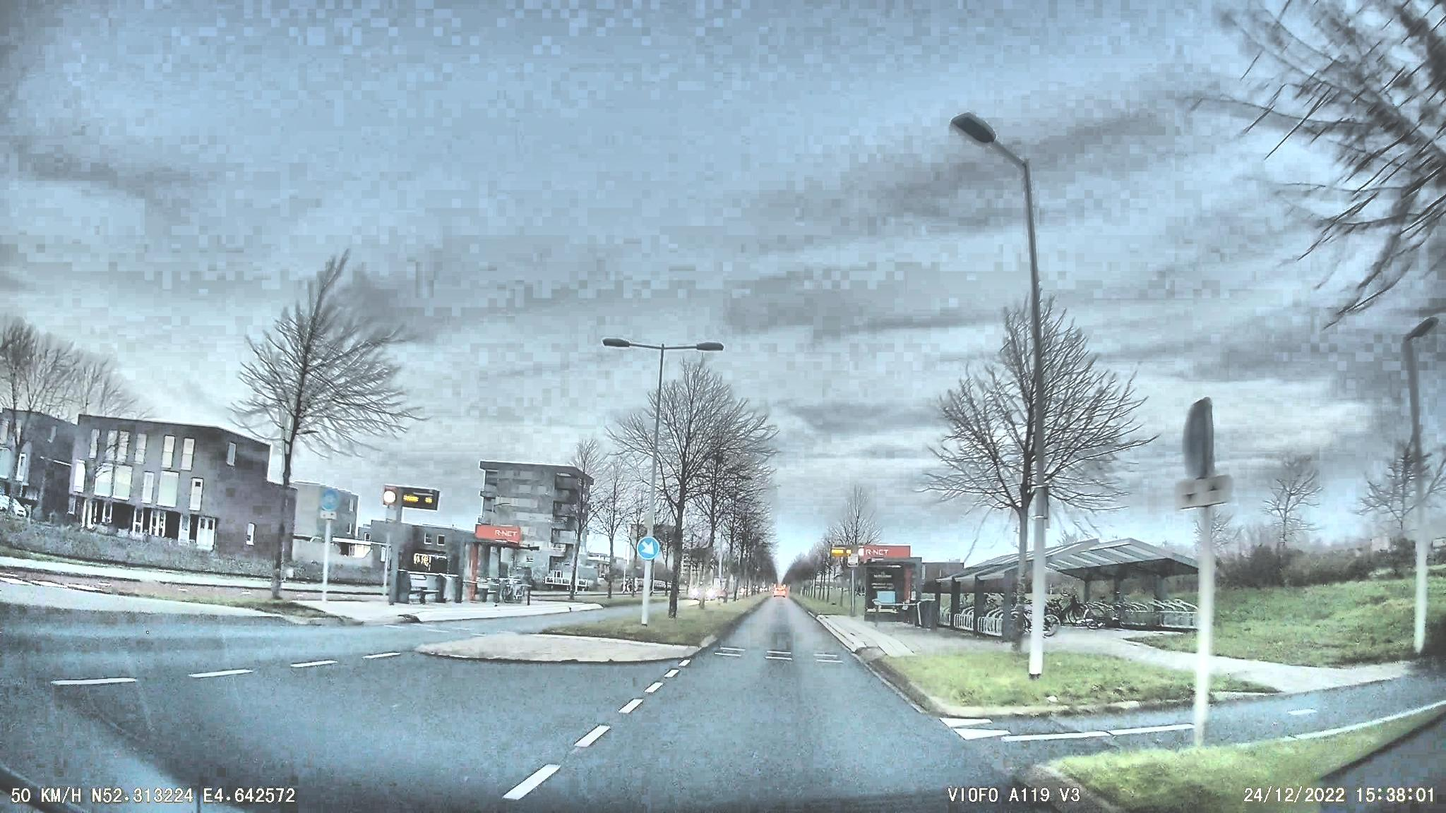Roads: (0, 599, 1446, 813)
